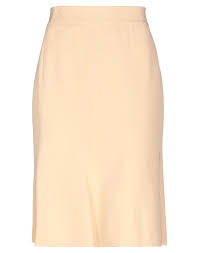C_skirt: (28, 9, 172, 253)
